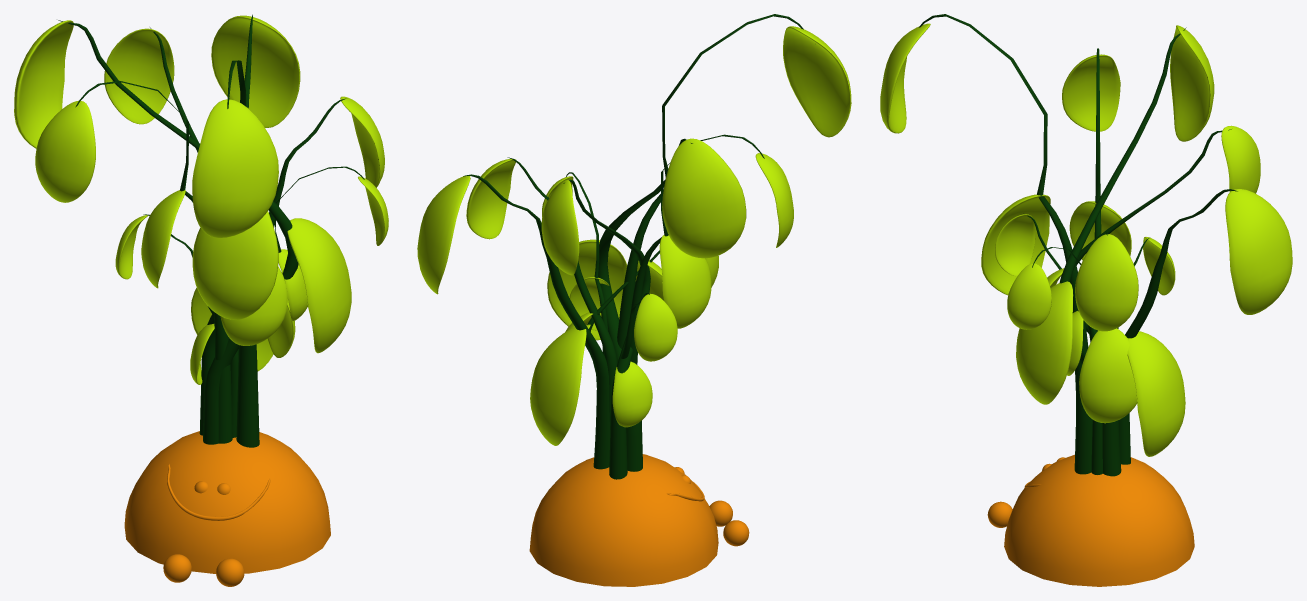
Rendered from Plant 3 Stage 3.fbx.
3 renders of one model, left to right at view 1: azimuth 30°, elevation 25°; view 2: azimuth 150°, elevation 25°; view 3: azimuth 270°, elevation 25°, orthographic. The views are drawn at different scales.
Parts seen in each view (by area): view 1: pSphere1, pasted__pasted__pasted__pSphere2 (×5), pasted__pasted__pSphere2 (×5), pasted__pSphere2 (×3), pSphere2, pasted__pCone1 (×3), pasted__pasted__pCone1 (×2), pCone1, pasted__pasted__pasted__pasted__pSphere2 (×2), pasted__pSphere4, pSphere4, pCylinder1; view 2: pSphere1, pasted__pasted__pasted__pSphere2 (×4), pasted__pSphere2 (×2), pasted__pasted__pasted__pasted__pSphere2 (×2), pasted__pCone1 (×4), pasted__pasted__pSphere2 (×3), pasted__pasted__pCone1 (×2), pSphere2, pCone1, pasted__pSphere4; view 3: pasted__pasted__pasted__pSphere2 (×6), pSphere1, pasted__pasted__pSphere2 (×4), pasted__pSphere2 (×3), pasted__pCone1 (×3), pasted__pasted__pasted__pasted__pSphere2, pasted__pasted__pCone1 (×2), pSphere2, pCone1.
Part boxes in pixels (bbox=[...]): pSphere1: bbox=[124, 431, 330, 573]; pasted__pasted__pasted__pSphere2 (×5): bbox=[14, 15, 351, 357]; pasted__pasted__pSphere2 (×5): bbox=[104, 28, 384, 345]; pasted__pSphere2 (×3): bbox=[141, 99, 388, 288]; pSphere2: bbox=[35, 100, 95, 202]; pasted__pCone1 (×3): bbox=[150, 27, 346, 447]; pasted__pasted__pCone1 (×2): bbox=[58, 20, 298, 444]; pCone1: bbox=[75, 80, 232, 443]; pasted__pasted__pasted__pasted__pSphere2 (×2): bbox=[190, 287, 273, 384]; pasted__pSphere4: bbox=[163, 554, 191, 582]; pSphere4: bbox=[216, 558, 244, 586]; pCylinder1: bbox=[167, 464, 270, 520]; pSphere1: bbox=[529, 454, 718, 586]; pasted__pasted__pasted__pSphere2 (×4): bbox=[417, 138, 746, 361]; pasted__pSphere2 (×2): bbox=[659, 26, 851, 328]; pasted__pasted__pasted__pasted__pSphere2 (×2): bbox=[530, 327, 652, 445]; pasted__pCone1 (×4): bbox=[507, 14, 803, 479]; pasted__pasted__pSphere2 (×3): bbox=[466, 159, 612, 330]; pasted__pasted__pCone1 (×2): bbox=[463, 138, 692, 471]; pSphere2: bbox=[755, 153, 793, 247]; pCone1: bbox=[630, 134, 764, 364]; pasted__pSphere4: bbox=[723, 520, 749, 546]; pasted__pasted__pasted__pSphere2 (×6): bbox=[995, 25, 1292, 423]; pSphere1: bbox=[1004, 454, 1194, 586]; pasted__pasted__pSphere2 (×4): bbox=[981, 125, 1260, 375]; pasted__pSphere2 (×3): bbox=[880, 23, 1131, 329]; pasted__pCone1 (×3): bbox=[919, 14, 1231, 474]; pasted__pasted__pasted__pasted__pSphere2: bbox=[1127, 331, 1185, 456]; pasted__pasted__pCone1 (×2): bbox=[1059, 27, 1237, 476]; pSphere2: bbox=[1062, 54, 1120, 131]; pCone1: bbox=[1094, 48, 1101, 331].
Bounding box in the file's own units: 3.79 × 5.78 × 4.33.
